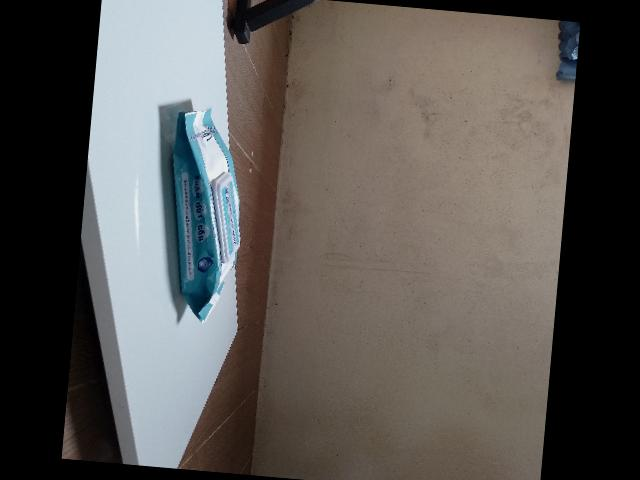Let-green_alcohol_wipes: (171, 107, 239, 323)
